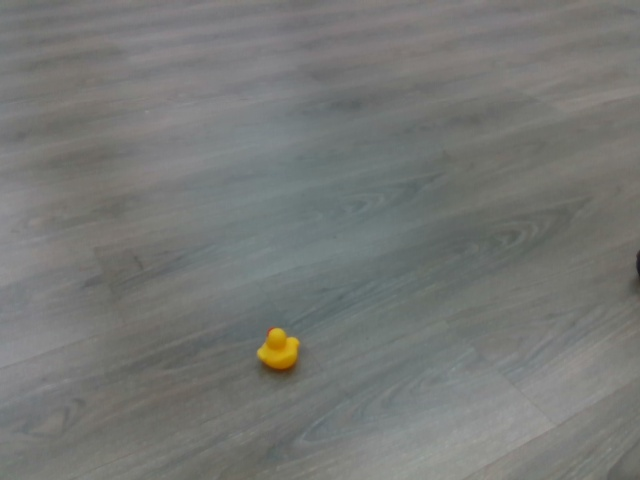duck: (256, 324, 303, 371)
